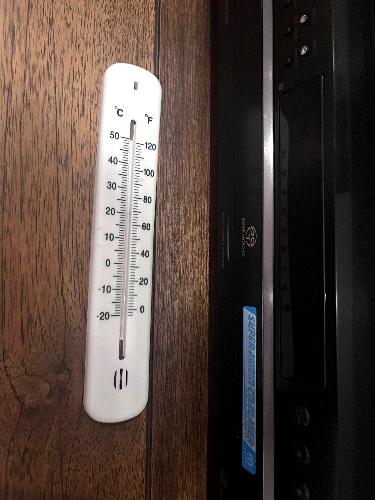thermo: (87, 61, 170, 422)
